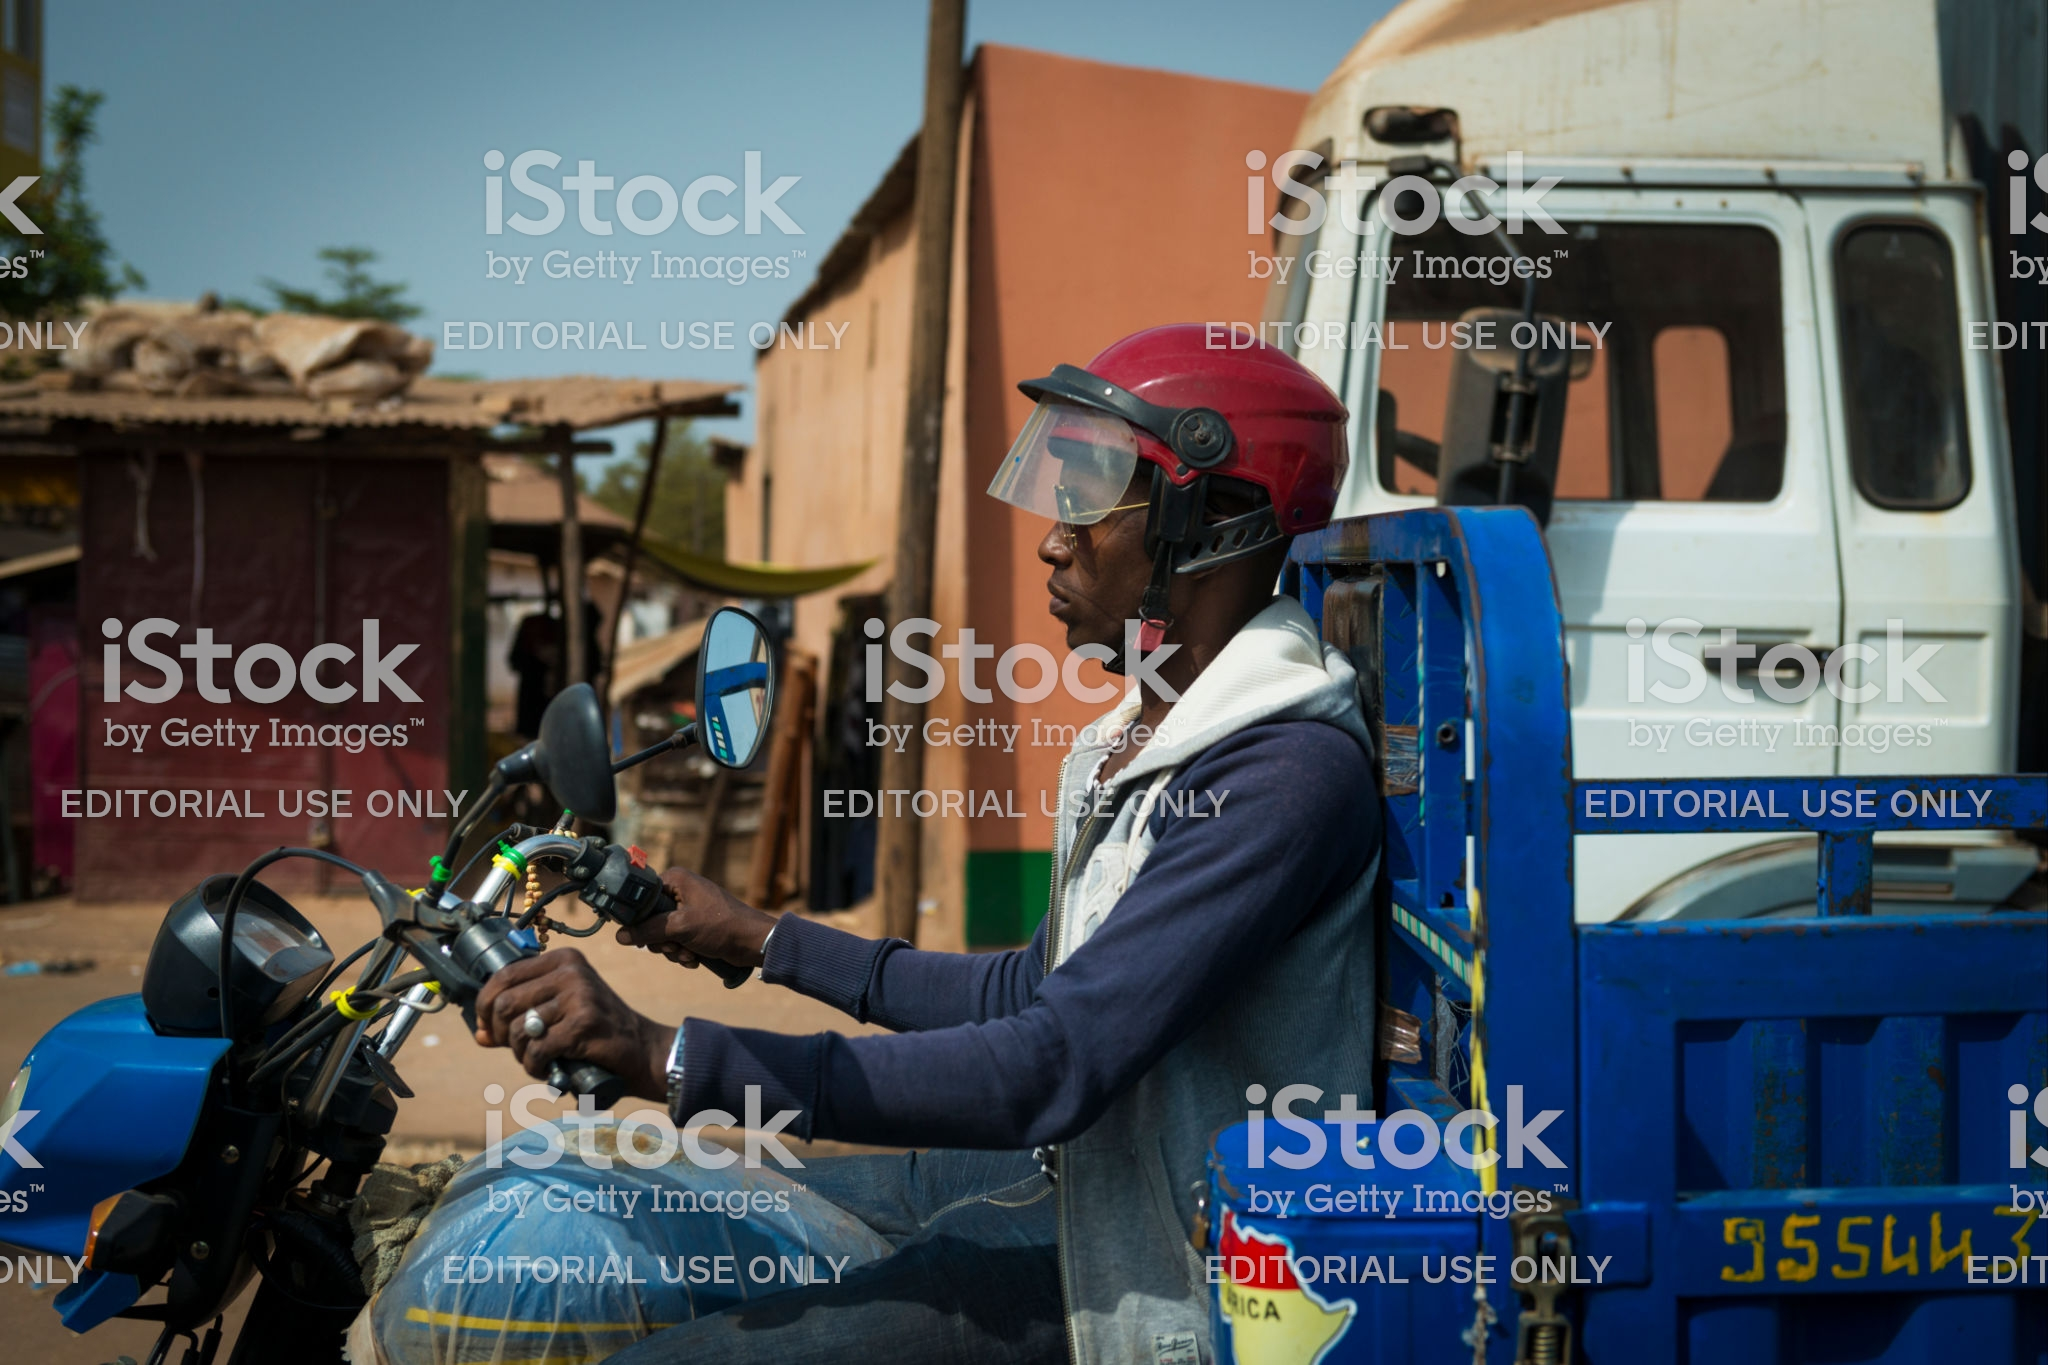helmet: (1016, 321, 1386, 519)
